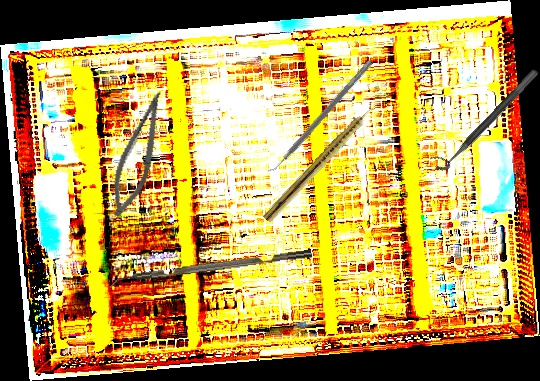Chopper: (108, 249, 314, 293)
Fixation Ring: (427, 60, 540, 176)
Handpiece: (262, 102, 379, 226)
Micro Scissor: (103, 85, 171, 222)
Spatula Surgical: (263, 54, 374, 179)
